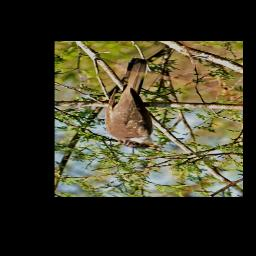Cuckoo: (104, 58, 164, 149)
